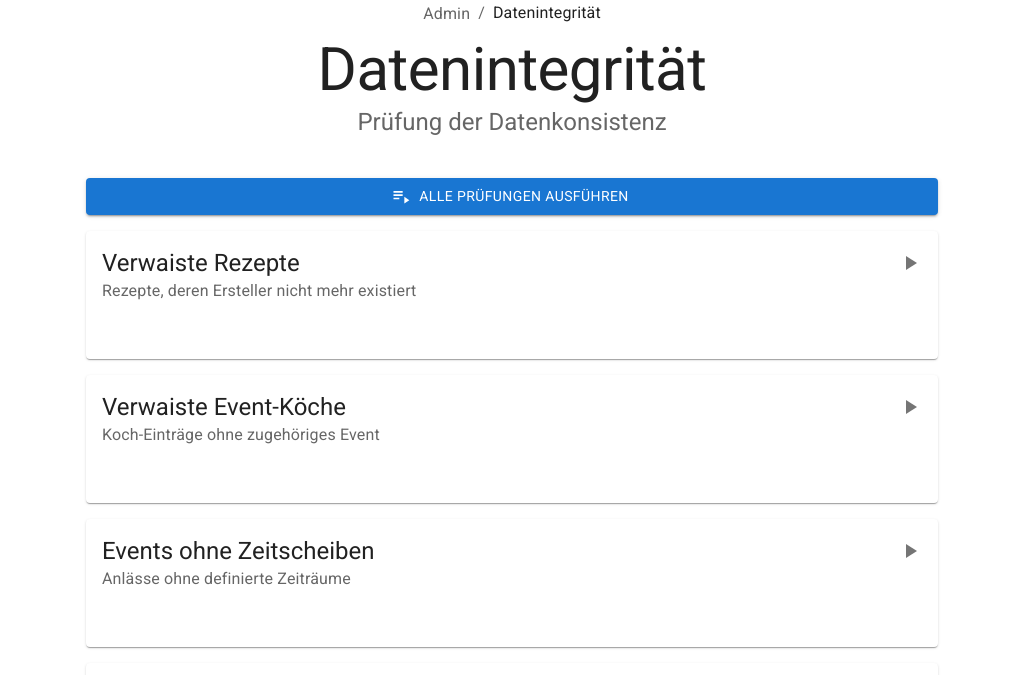
Test: DataIntegrityPage — Events ohne Zeitscheiben › Sammel-Löschen ist gesperrt, wenn kein Anlass leer ist
This screenshot has width=1024, height=675.
Click the button named "Events ohne Zeitscheiben ausführen". click: point(910, 551)
box: 890,531 -> 930,571
(page scrolled)
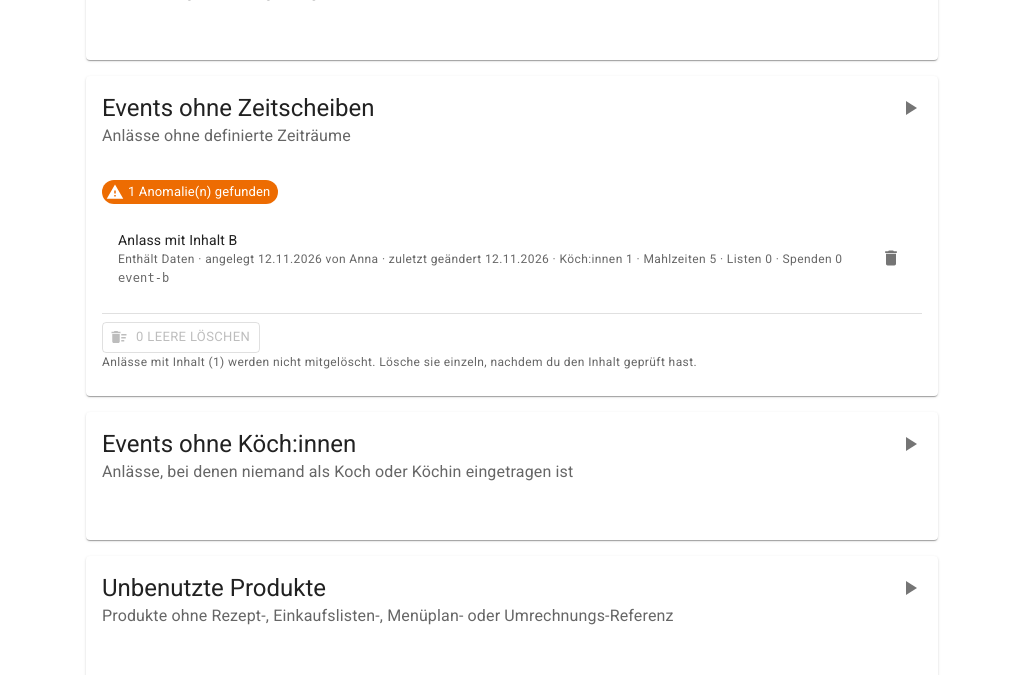
Expected: the button "0 leere löschen" is disabled, 102,322 -> 260,353
